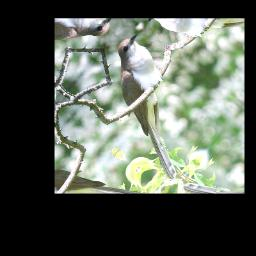Cuckoo: (68, 30, 235, 183)
